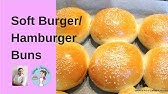hamburger_buns: (83, 43, 148, 90), (90, 5, 137, 43)
